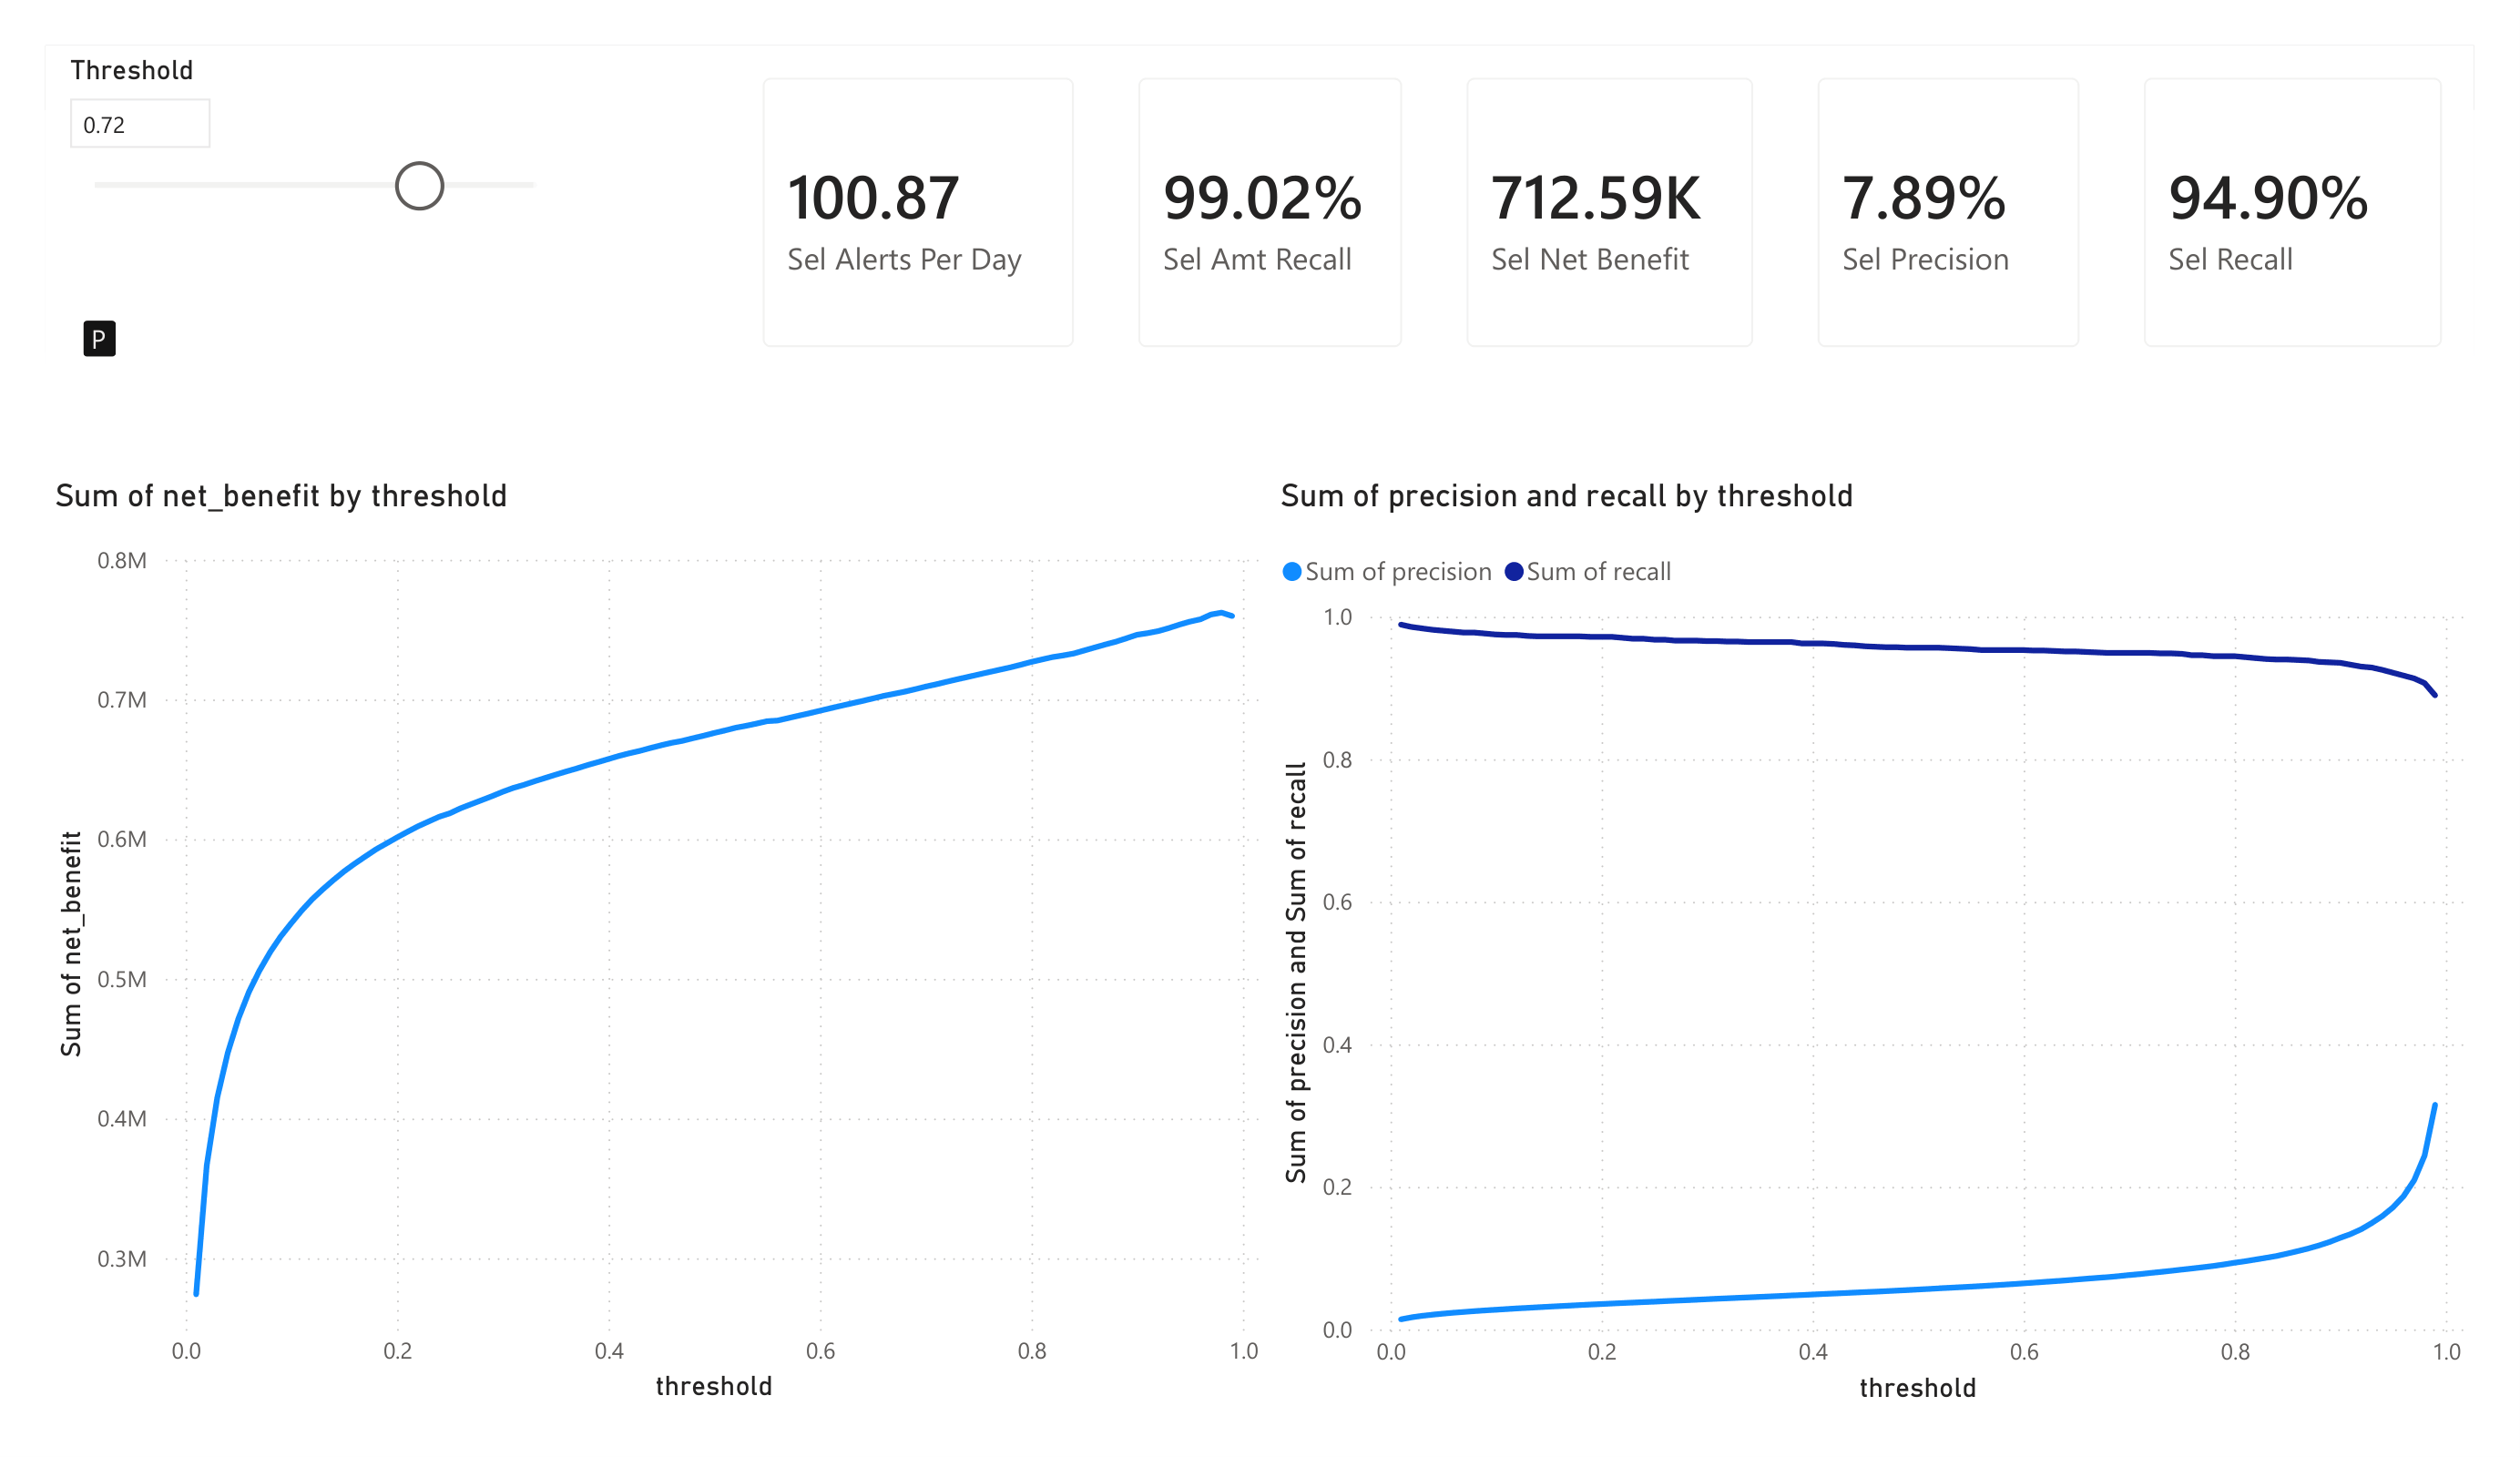

The page's visual inventory and layout, read from the dashboard file:
{"tool":"powerbi","page":{"name":"Model economics","canvas":[1280,720],"ordinal":2},"visuals":[{"type":"slicer","fields":{"Values":["Threshold.Threshold"]},"box":[0,0,280.2,175.9],"z":0},{"type":"cardVisual","fields":{"Data":["econ_curve.Sel Alerts Per Day"]},"box":[360.6,0,198.5,175.9],"z":1},{"type":"cardVisual","fields":{"Data":["econ_curve.Sel Amt Recall"]},"box":[559.1,0,173.4,175.9],"z":2},{"type":"cardVisual","fields":{"Data":["econ_curve.Sel Net Benefit"]},"box":[732.5,0,184.7,175.9],"z":3},{"type":"cardVisual","fields":{"Data":["econ_curve.Sel Precision"]},"box":[917.2,0,172.1,175.9],"z":4},{"type":"cardVisual","fields":{"Data":["econ_curve.Sel Recall"]},"box":[1089.3,0,191,175.9],"z":5},{"type":"lineChart","fields":{"Y":["Sum(econ_curve.net_benefit)"],"Category":["econ_curve.threshold"]},"box":[0,227.4,645.8,492.5],"z":6},{"type":"lineChart","title":"Sum of precision and recall by threshold","fields":{"Category":["econ_curve.threshold"],"Y":["Sum(econ_curve.precision)","Sum(econ_curve.recall)"]},"box":[645.8,227.4,634.5,492.5],"z":7}]}

Visuals, with their boxes on the page's 1280x720 design canvas (x1, y1, x2, y2). These are canvas units, not pixel positions in the 2520x1457 screenshot, which may show the page scaled, cropped or inside an application window:
slicer - Threshold.Threshold: 0 0 280 176
cardVisual - econ_curve.Sel Alerts Per Day: 361 0 559 176
cardVisual - econ_curve.Sel Amt Recall: 559 0 732 176
cardVisual - econ_curve.Sel Net Benefit: 732 0 917 176
cardVisual - econ_curve.Sel Precision: 917 0 1089 176
cardVisual - econ_curve.Sel Recall: 1089 0 1280 176
lineChart - Sum(econ_curve.net_benefit) x econ_curve.threshold: 0 227 646 720
"Sum of precision and recall by threshold" lineChart: 646 227 1280 720
